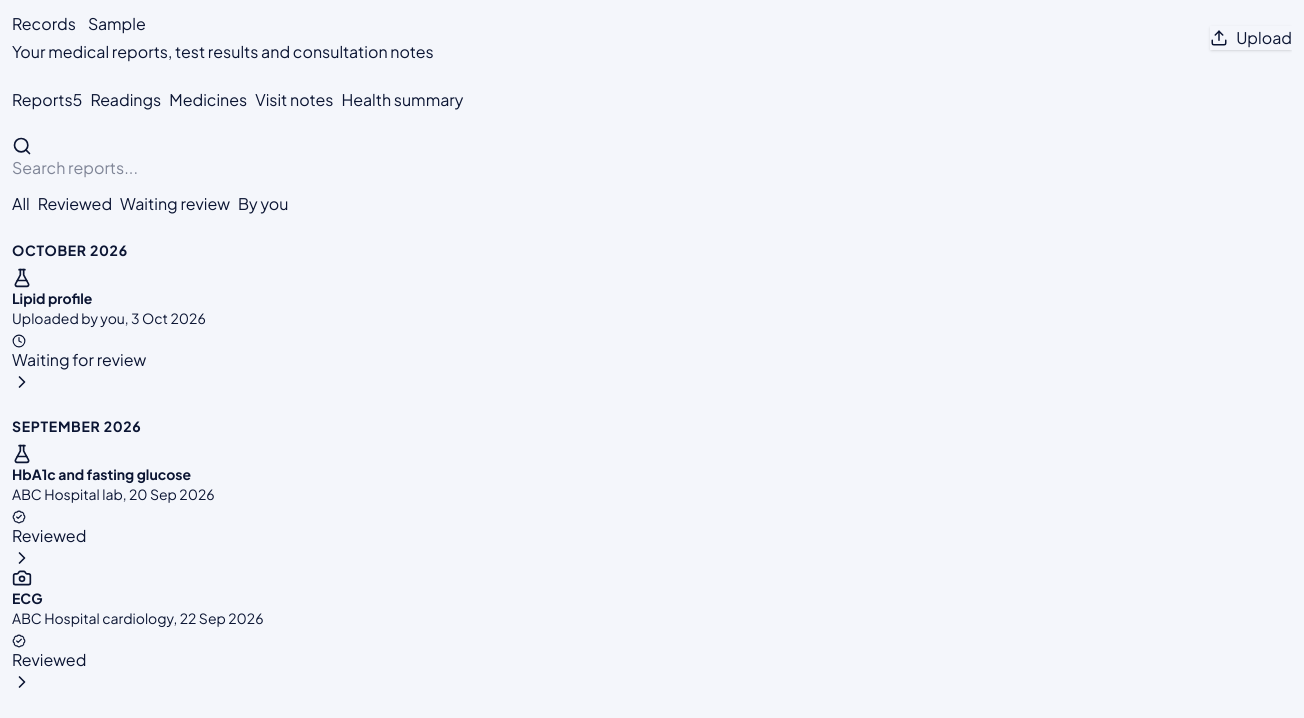
Patient Feature: Records and Reports Screen › filters reports when typing into search input
Type "Lipid" into the field with placeholder "Search reports..." at coordinates (108, 168), box [12,156,205,180]
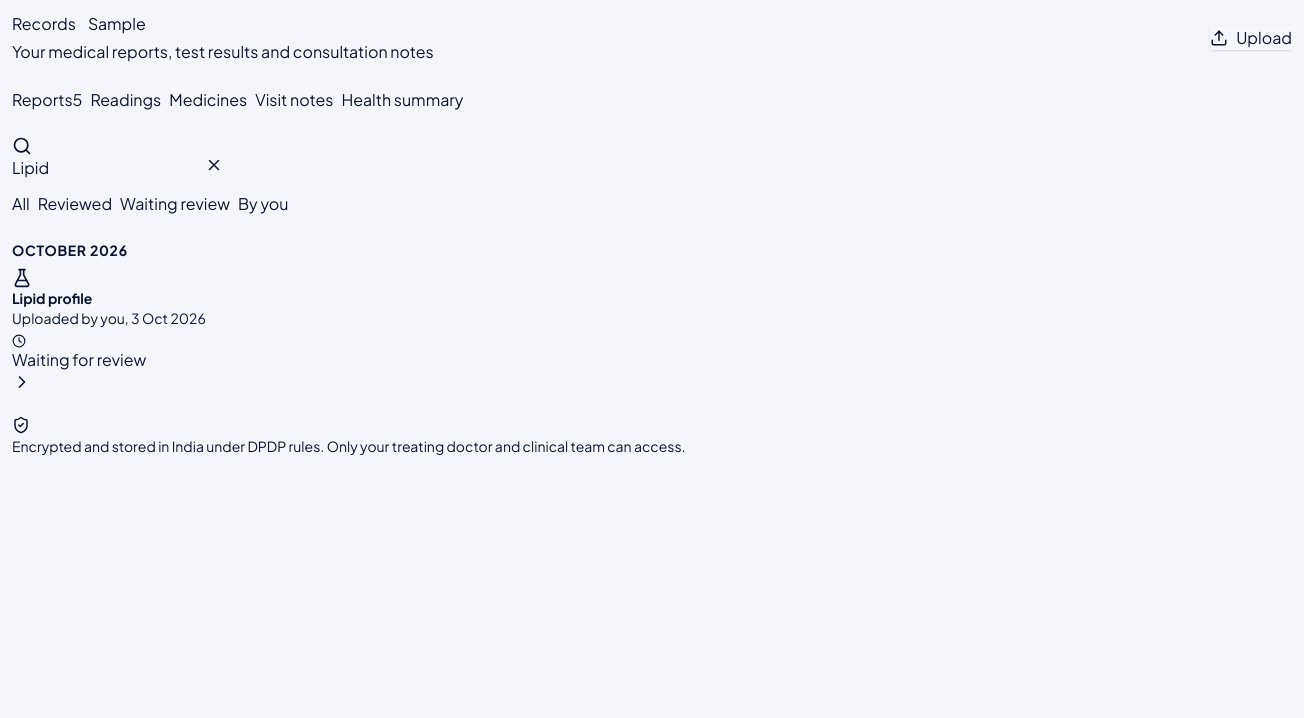
Expected: the text "Lipid profile" is shown, [12,289,92,307]
Expected: the button "HbA1c and fasting glucose" is gone
